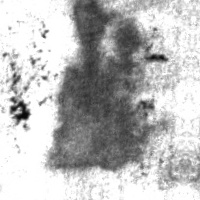inclusion: (3, 59, 36, 133)
patches: (47, 0, 152, 176), (103, 14, 149, 96)
